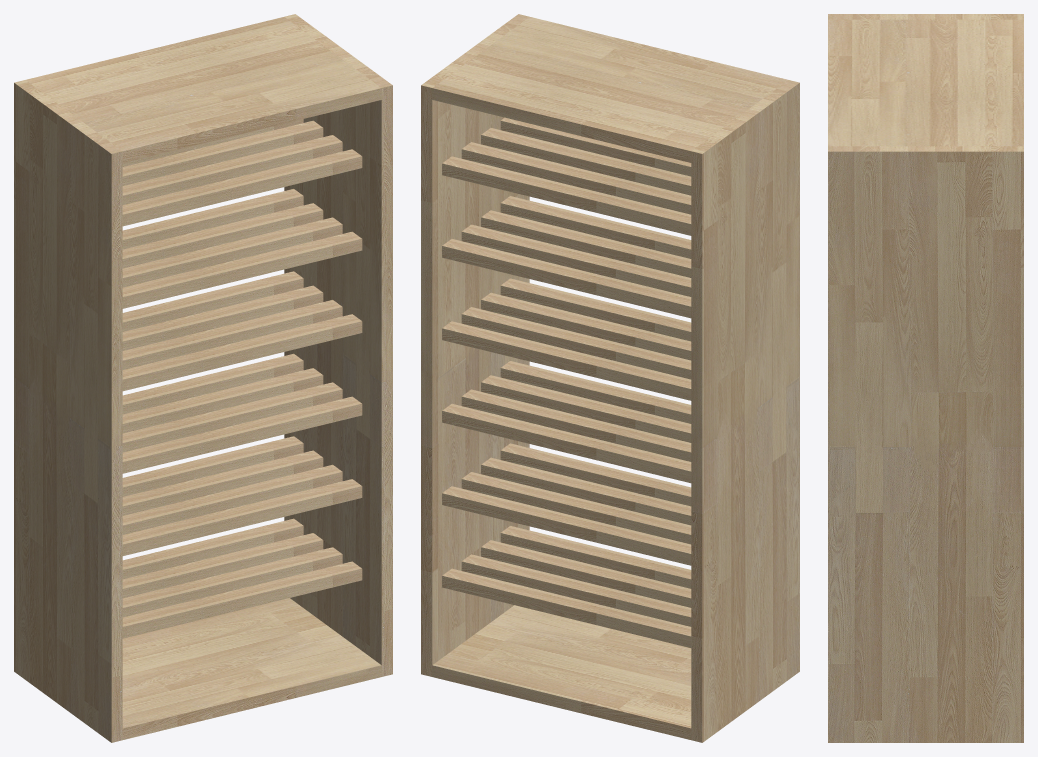
The picture shows the model from 3 angles, left to right: view 1: azimuth 30°, elevation 25°; view 2: azimuth 150°, elevation 25°; view 3: azimuth 270°, elevation 25°; orthographic projection.
Parts seen in each view (by area): view 1: wood.002; view 2: wood.002; view 3: wood.002.
Part boxes in pixels (x1,y1,x2,y2): wood.002: [14, 14, 392, 742]; wood.002: [421, 14, 799, 742]; wood.002: [828, 14, 1023, 742].
Bounding box in the file's own units: 0.5 × 1 × 0.3.
1 material, 1 textured.
